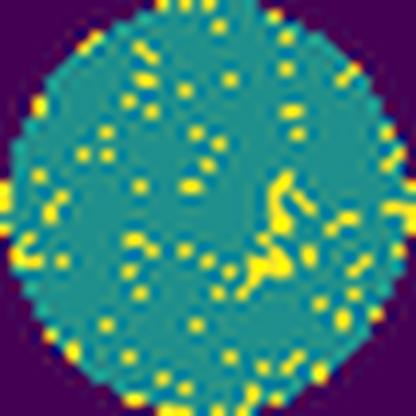Loc: (233, 169, 320, 302)
